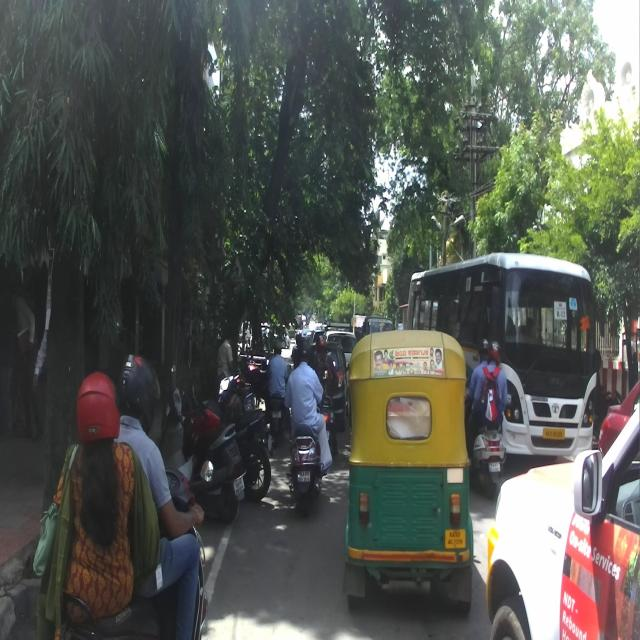autorickshaw: (343, 328, 475, 619)
bus: (405, 251, 599, 469)
scooter: (56, 458, 216, 638), (286, 373, 332, 519), (463, 376, 507, 500)
truck: (485, 404, 639, 638)
